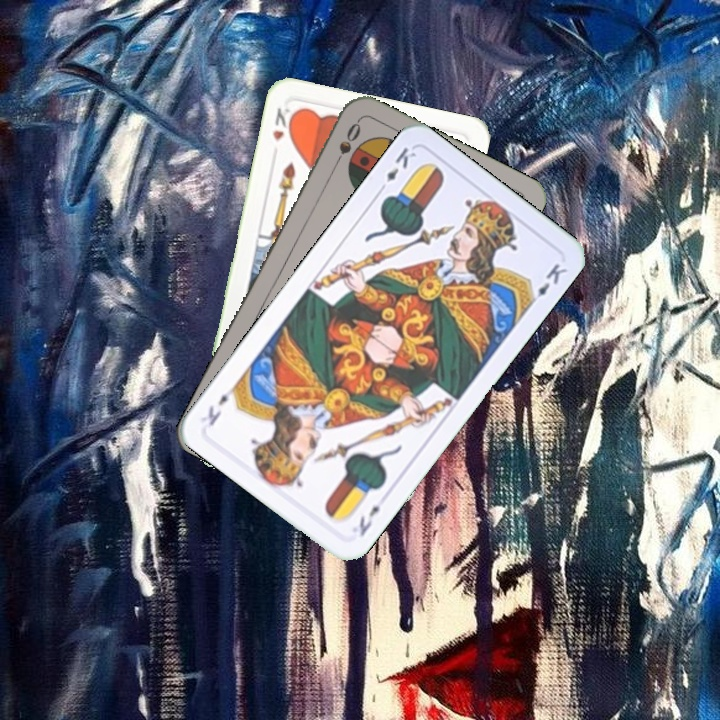EK: (374, 143, 418, 196), (355, 501, 383, 539)
HK: (268, 103, 298, 144)
SO: (328, 117, 364, 172)
